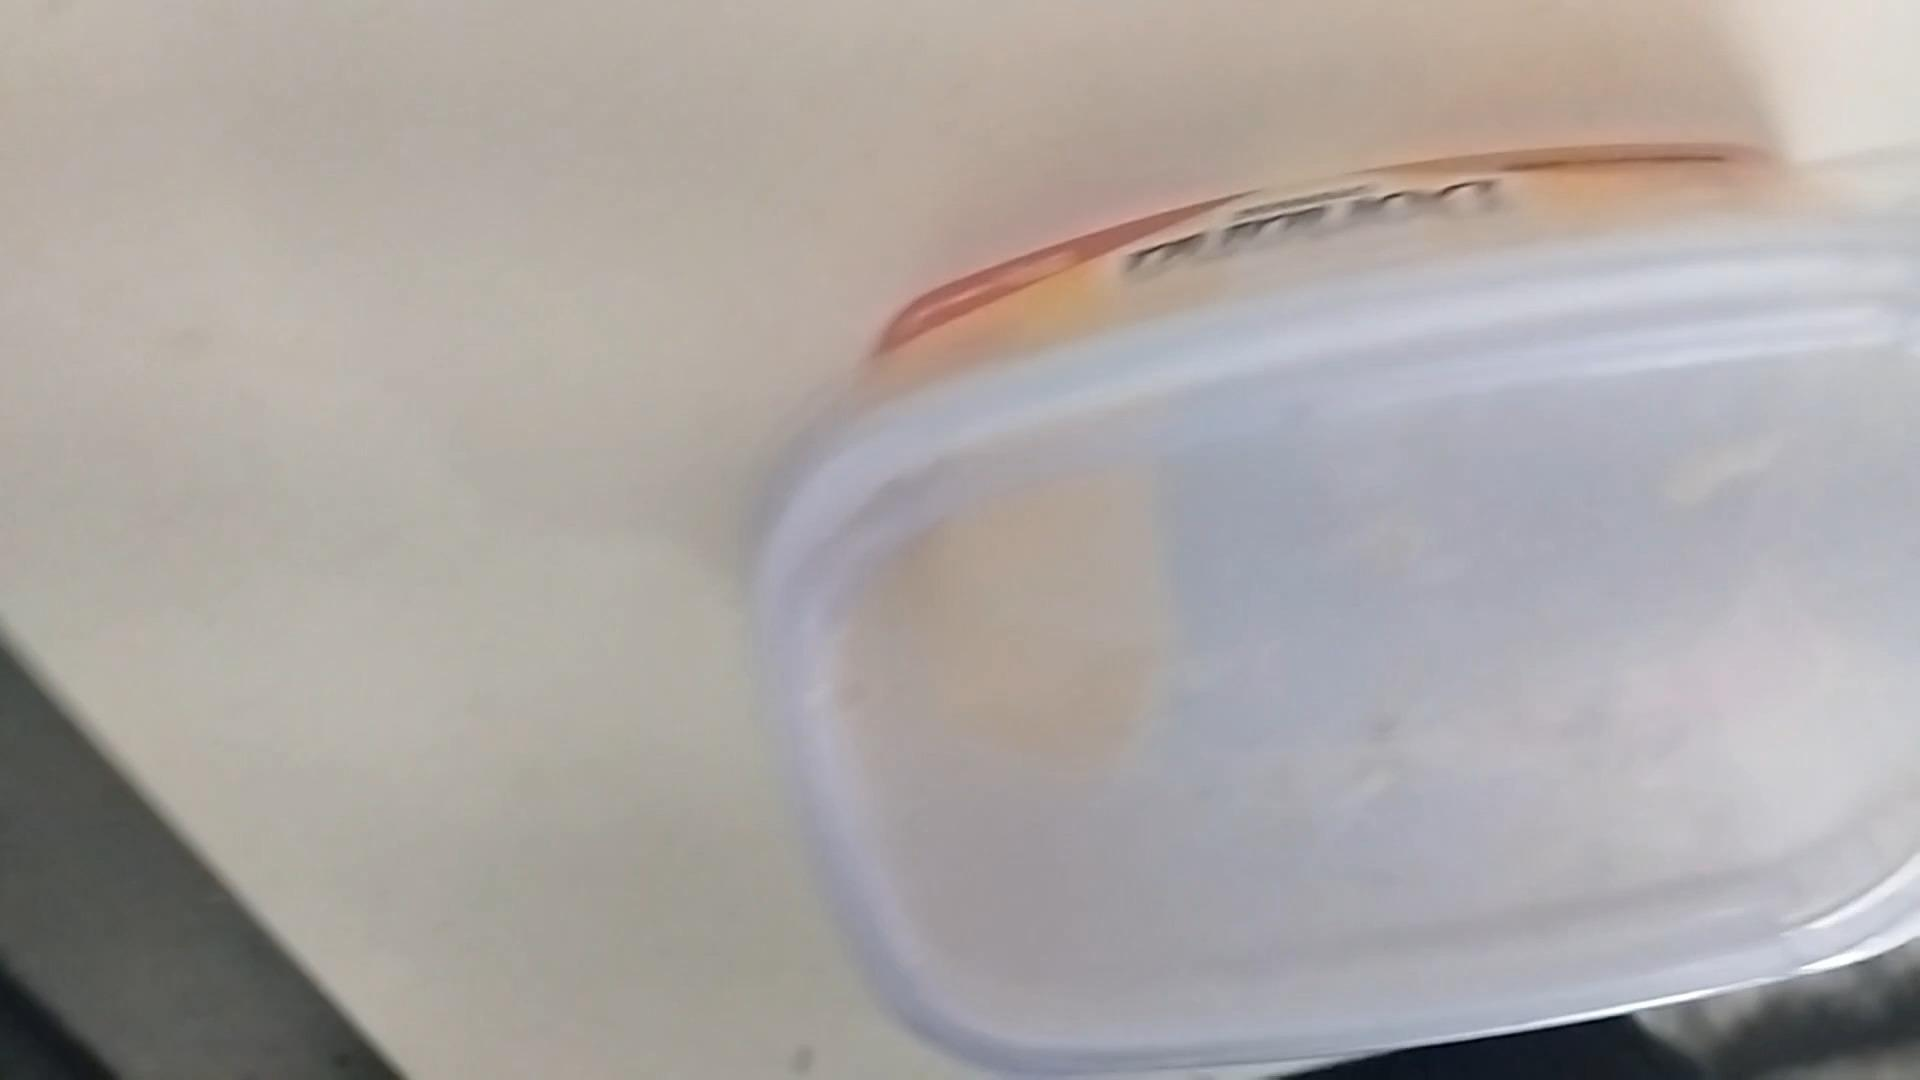butter: (758, 153, 1919, 1067)
